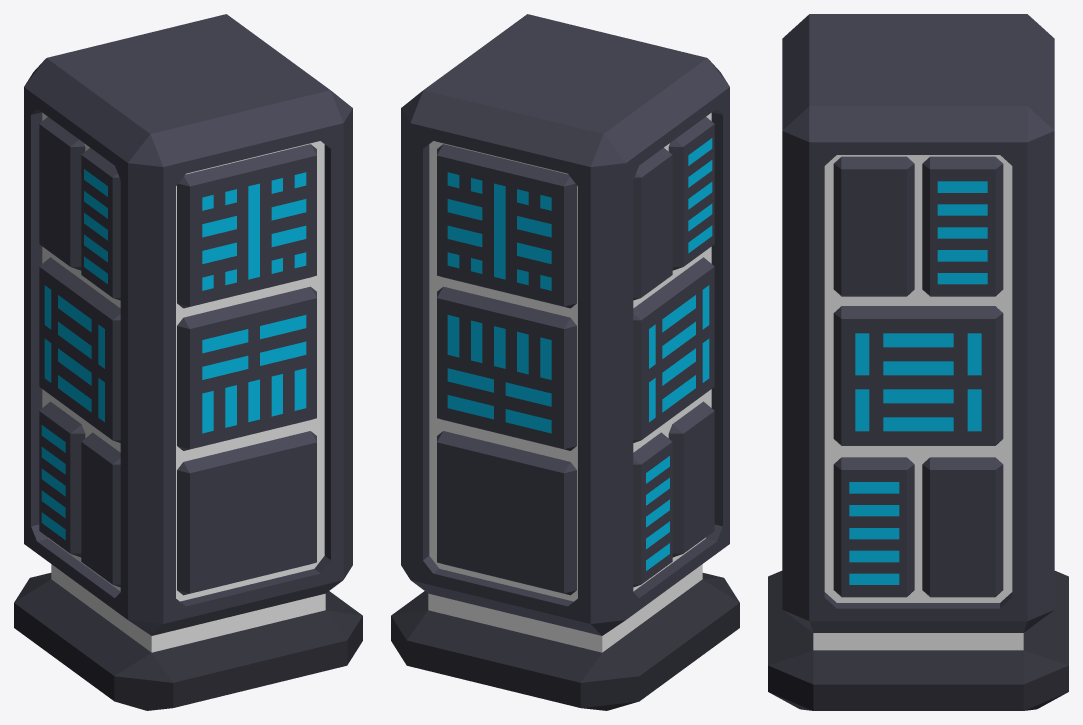
File: Data Storage 01.fbx
3 views of the same model, side by side, from view 1: azimuth 30°, elevation 25°; view 2: azimuth 150°, elevation 25°; view 3: azimuth 270°, elevation 25° (orthographic). The views are drawn at different scales.
Parts seen in each view (by area): view 1: Data_Storage_01; view 2: Data_Storage_01; view 3: Data_Storage_01.
Boxes of the visible parts, x1=… form: Data_Storage_01: x1=14, y1=14, x2=362, y2=710; Data_Storage_01: x1=391, y1=14, x2=739, y2=710; Data_Storage_01: x1=768, y1=14, x2=1068, y2=710.
Bounding box in the file's own units: 88.3 × 194 × 88.3.
